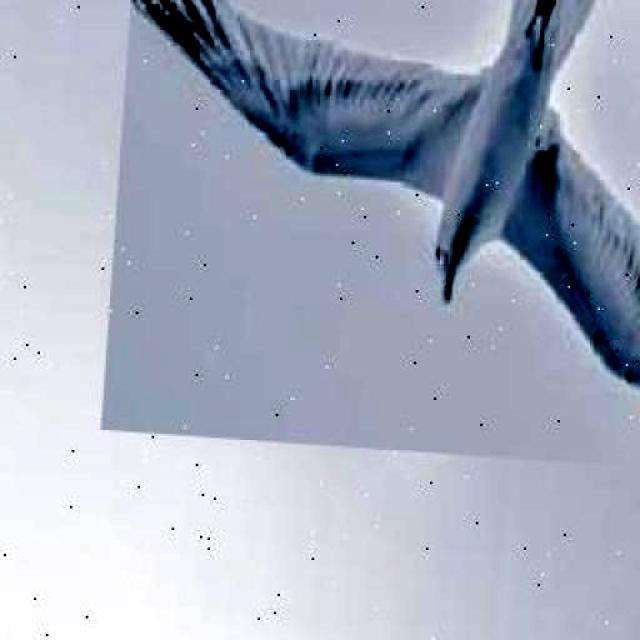airplane: (100, 0, 640, 480)
